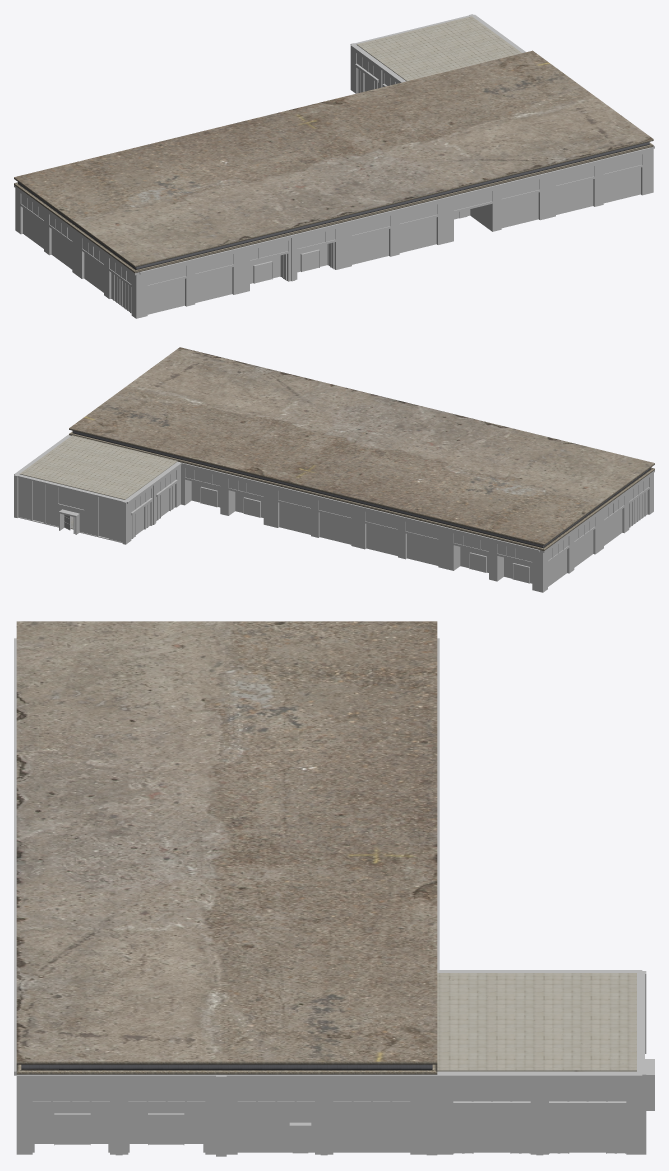
Rendered from PlantFacility.fbx.
3 renders of one model, top to bottom at view 1: azimuth 30°, elevation 25°; view 2: azimuth 150°, elevation 25°; view 3: azimuth 270°, elevation 25°, orthographic. The views are drawn at different scales.
Visible parts, largest first — view 1: PlantFacility; view 2: PlantFacility; view 3: PlantFacility.
Part boxes in pixels (x1,y1,x2,y2): PlantFacility: (14, 14, 654, 318); PlantFacility: (14, 347, 654, 592); PlantFacility: (14, 621, 654, 1156).
Size of the model in its own units: 1947 by 195 by 1192.
